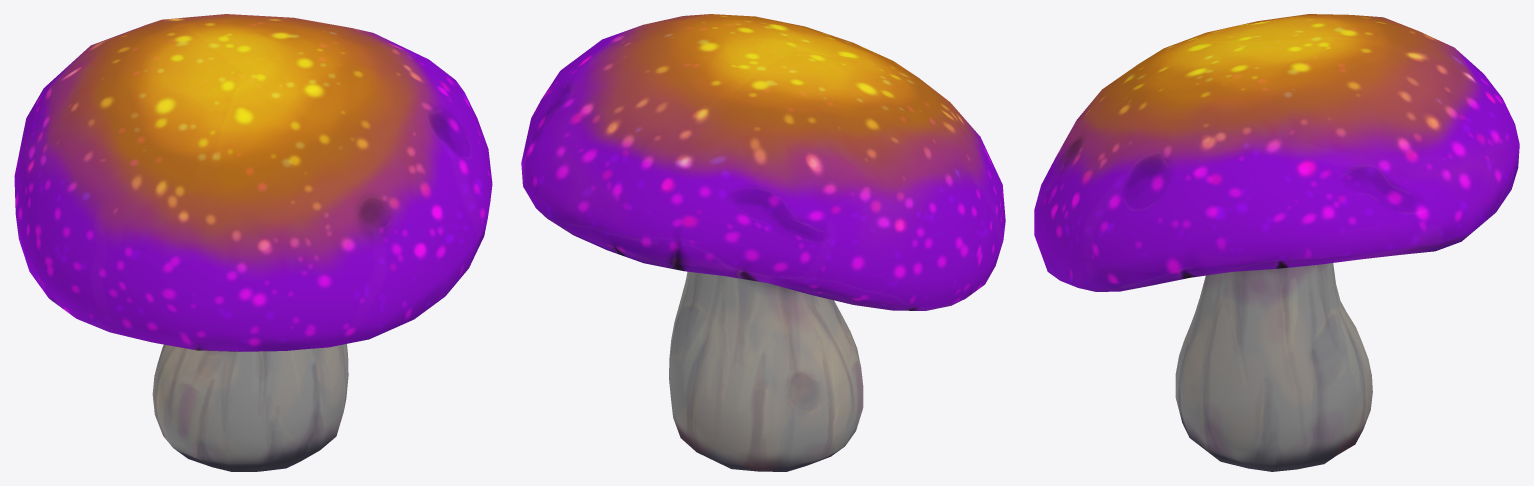
The model's file is mushrooms.glb.
3 views of the same model, side by side, from view 1: azimuth 30°, elevation 25°; view 2: azimuth 150°, elevation 25°; view 3: azimuth 270°, elevation 25° (orthographic). The views are drawn at different scales.
Visible parts, largest first — view 1: Mushroom; view 2: Mushroom; view 3: Mushroom.
Part boxes in pixels (bbox=[...]): Mushroom: bbox=[14, 14, 492, 471]; Mushroom: bbox=[521, 14, 1005, 471]; Mushroom: bbox=[1034, 14, 1519, 471].
Bounding box in the file's own units: 0.6532 × 0.601 × 0.6499.
1 material, 1 textured.
